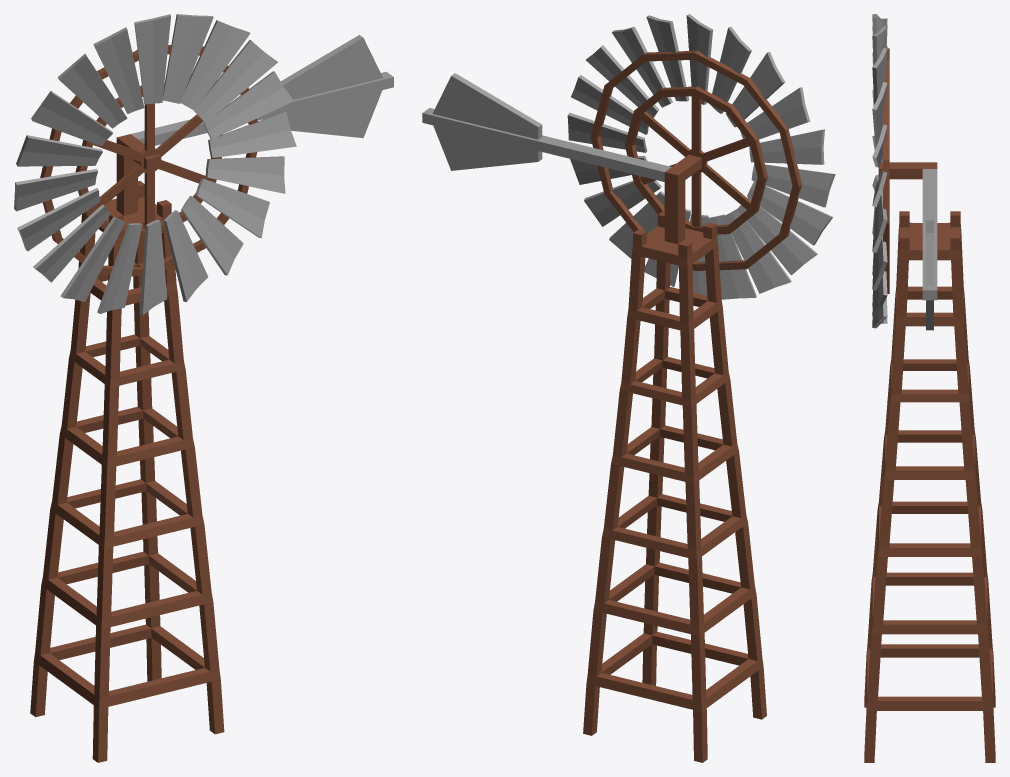
File: Windmill.gltf
3 views of the same model, side by side, from view 1: azimuth 30°, elevation 25°; view 2: azimuth 150°, elevation 25°; view 3: azimuth 270°, elevation 25° (orthographic). The views are drawn at different scales.
Parts seen in each view (by area): view 1: Windmill_Cube.020, Windmill_Blades_Cube.021; view 2: Windmill_Cube.020, Windmill_Blades_Cube.021; view 3: Windmill_Cube.020, Windmill_Blades_Cube.021.
Boxes of the visible parts, x1=… form: Windmill_Cube.020: x1=30, y1=35, x2=393, y2=762; Windmill_Blades_Cube.021: x1=14, y1=14, x2=296, y2=315; Windmill_Cube.020: x1=422, y1=73, x2=766, y2=762; Windmill_Blades_Cube.021: x1=567, y1=14, x2=835, y2=299; Windmill_Cube.020: x1=864, y1=162, x2=995, y2=762; Windmill_Blades_Cube.021: x1=872, y1=14, x2=889, y2=328.
Size of the model in its own units: 6.51 by 11.2 by 1.9.
